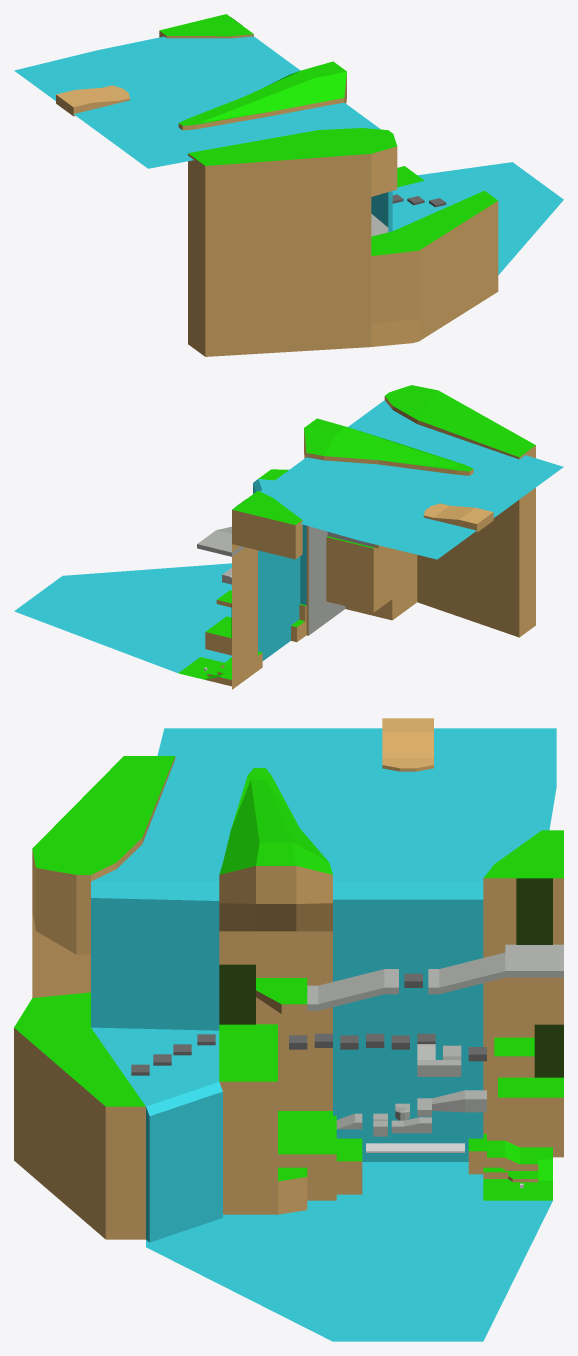
The model's file is waterfall.glb.
The picture shows the model from 3 angles, top to bottom: view 1: azimuth 30°, elevation 25°; view 2: azimuth 150°, elevation 25°; view 3: azimuth 270°, elevation 25°; orthographic projection. The views are drawn at different scales.
Visible parts, largest first — view 1: Cube.041-col, Plane.004-col, Cube.032-col, Cube.042-col, Cube.038-col, Cube.039-col; view 2: Plane.004-col, Cube.041-col, Cube.032-col, Cube.042-col, Cube.038-col, Plane.003-col, Plane.002-col, Cube.039-col, Cube.023-col, Cube.036-col, Plane.001-col; view 3: Plane.004-col, Cube.032-col, Cube.041-col, Cube.042-col, Plane.002-col, Plane.003-col, Cube.038-col, Cube.012-col, Cube.036-col, Cube.014-col, Cube.023-col, Cube.039-col (+11 smaller).
Boxes of the visible parts, bbox=[...] form: Cube.041-col: bbox=[188, 128, 397, 356]; Plane.004-col: bbox=[14, 36, 563, 274]; Cube.032-col: bbox=[371, 166, 498, 346]; Cube.042-col: bbox=[178, 61, 346, 130]; Cube.038-col: bbox=[159, 14, 253, 38]; Cube.039-col: bbox=[56, 85, 129, 116]; Plane.004-col: bbox=[14, 400, 563, 672]; Cube.041-col: bbox=[384, 385, 535, 637]; Cube.032-col: bbox=[258, 469, 417, 620]; Cube.042-col: bbox=[304, 418, 473, 475]; Cube.038-col: bbox=[232, 491, 302, 559]; Plane.003-col: bbox=[232, 544, 257, 689]; Plane.002-col: bbox=[306, 526, 345, 635]; Cube.039-col: bbox=[423, 503, 493, 532]; Cube.023-col: bbox=[205, 616, 253, 655]; Cube.036-col: bbox=[197, 526, 244, 556]; Plane.001-col: bbox=[178, 657, 224, 679]; Plane.004-col: bbox=[91, 728, 556, 1341]; Cube.032-col: bbox=[14, 992, 277, 1239]; Cube.041-col: bbox=[32, 756, 175, 997]; Cube.042-col: bbox=[219, 768, 332, 931]; Plane.002-col: bbox=[219, 931, 332, 1110]; Plane.003-col: bbox=[483, 931, 563, 1157]; Cube.038-col: bbox=[483, 830, 563, 931]; Cube.012-col: bbox=[223, 1167, 336, 1214]; Cube.036-col: bbox=[428, 944, 563, 994]; Cube.014-col: bbox=[278, 1111, 336, 1167]; Cube.023-col: bbox=[498, 1077, 563, 1124]; Cube.039-col: bbox=[382, 718, 433, 771].
Size of the model in its own units: 218 by 91 by 150.
